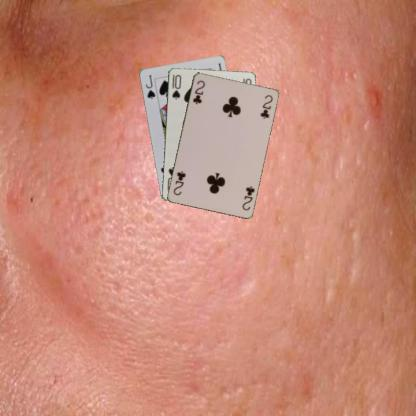10s: (169, 72, 182, 100)
2c: (190, 77, 206, 106), (240, 183, 256, 212)
Js: (143, 72, 156, 100)
